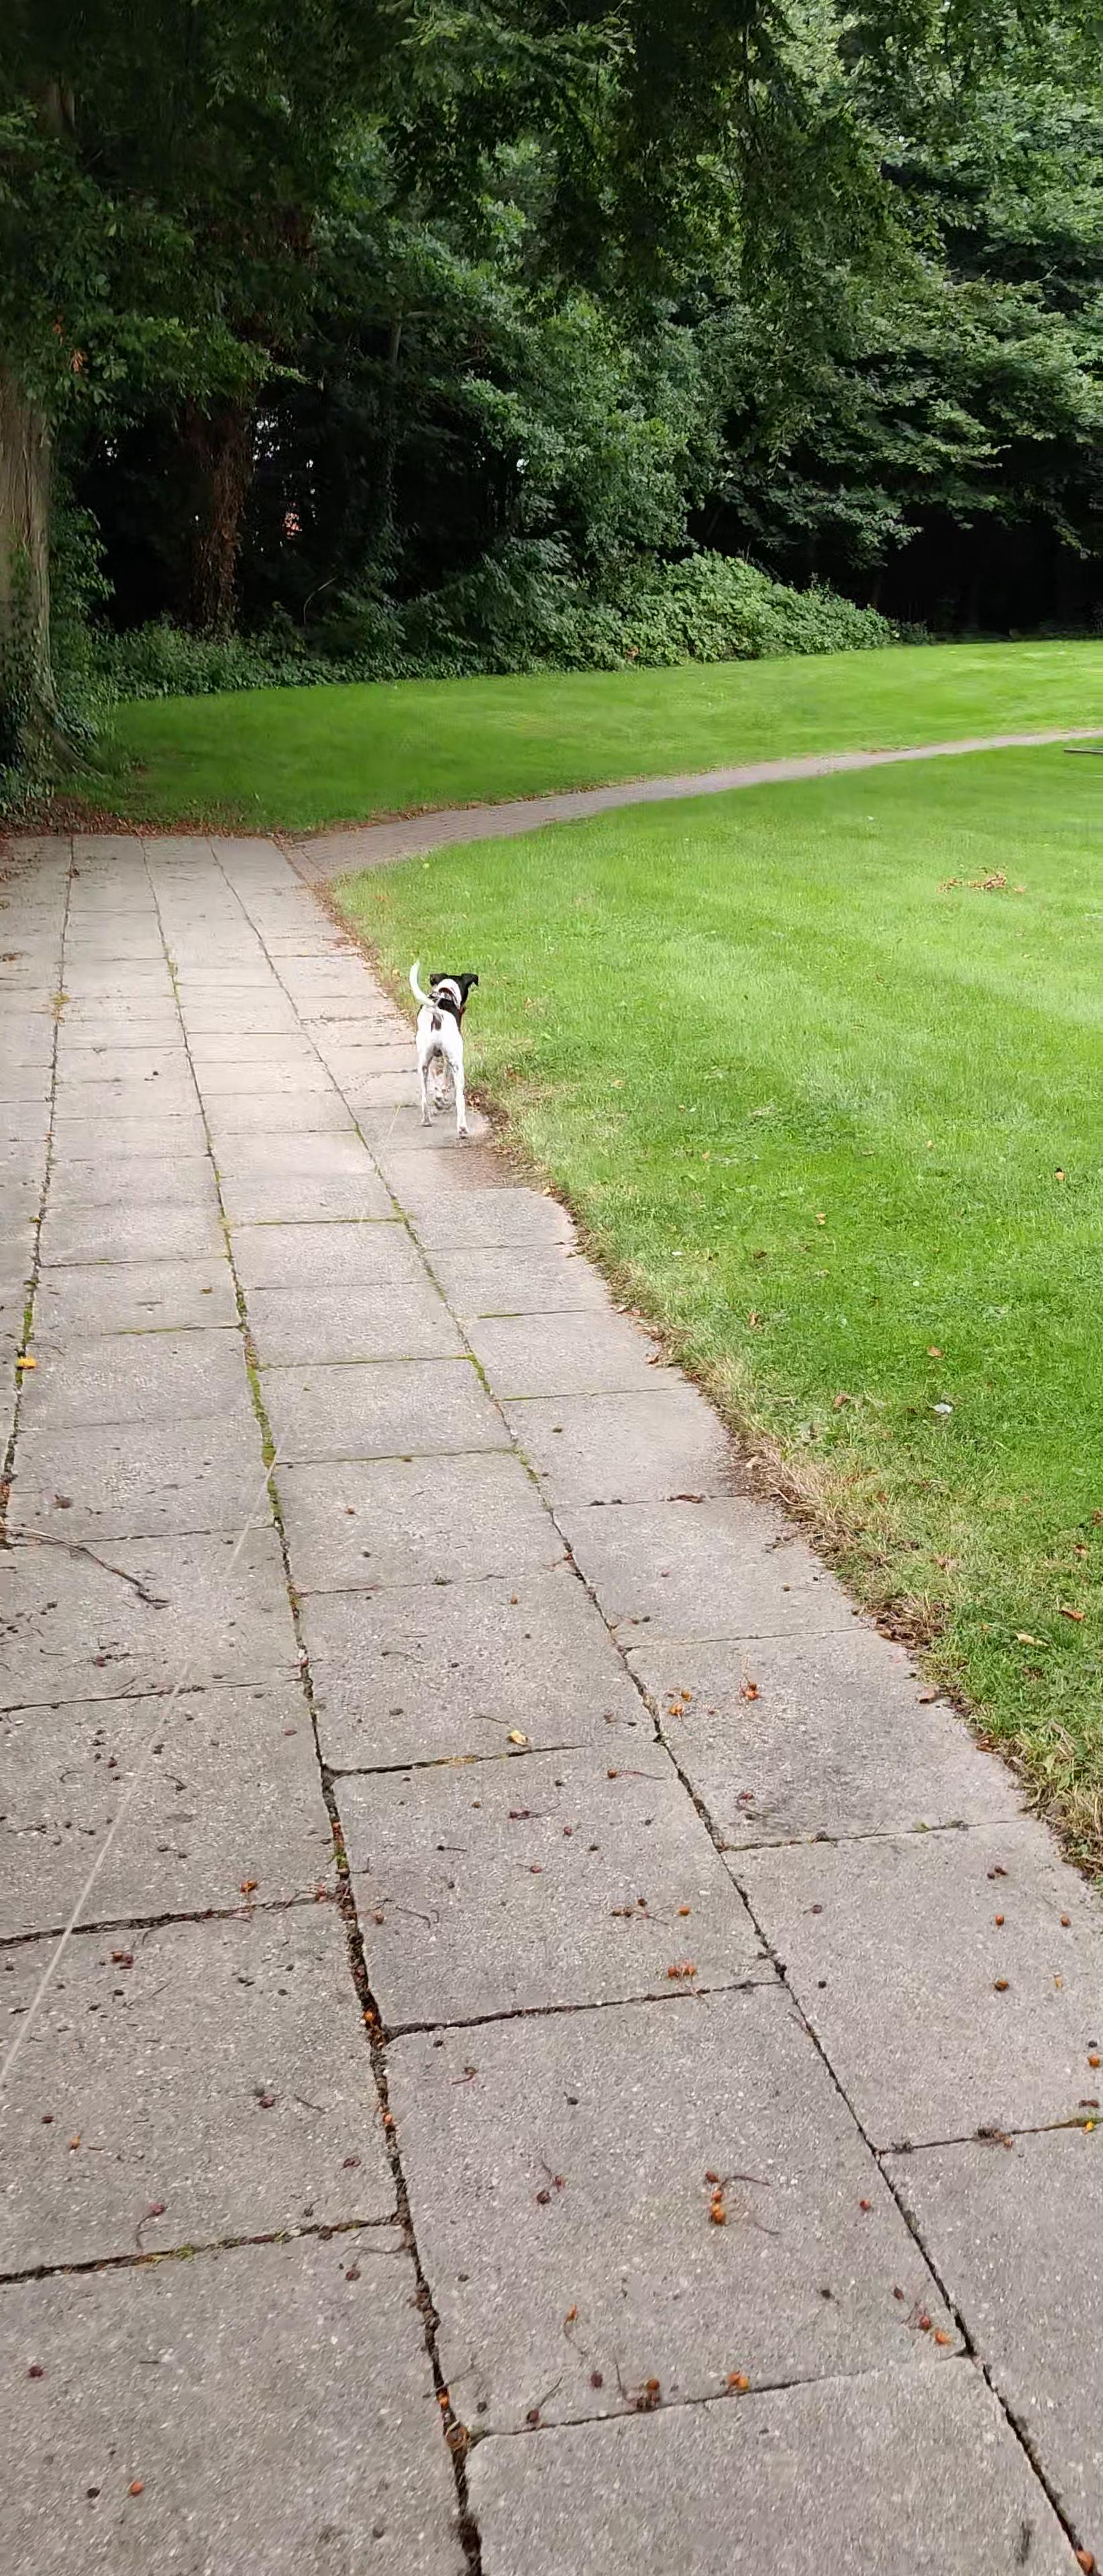Dog: (388, 954, 505, 1150)
